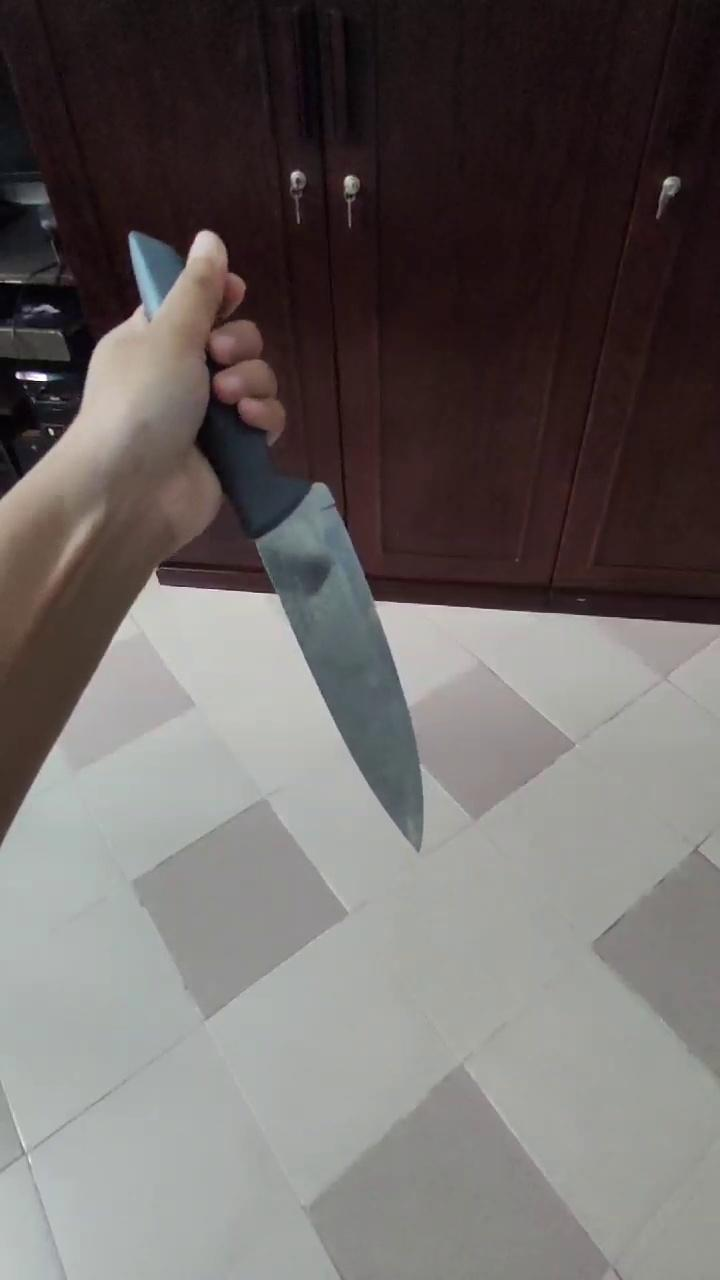knives: (237, 476, 450, 868)
